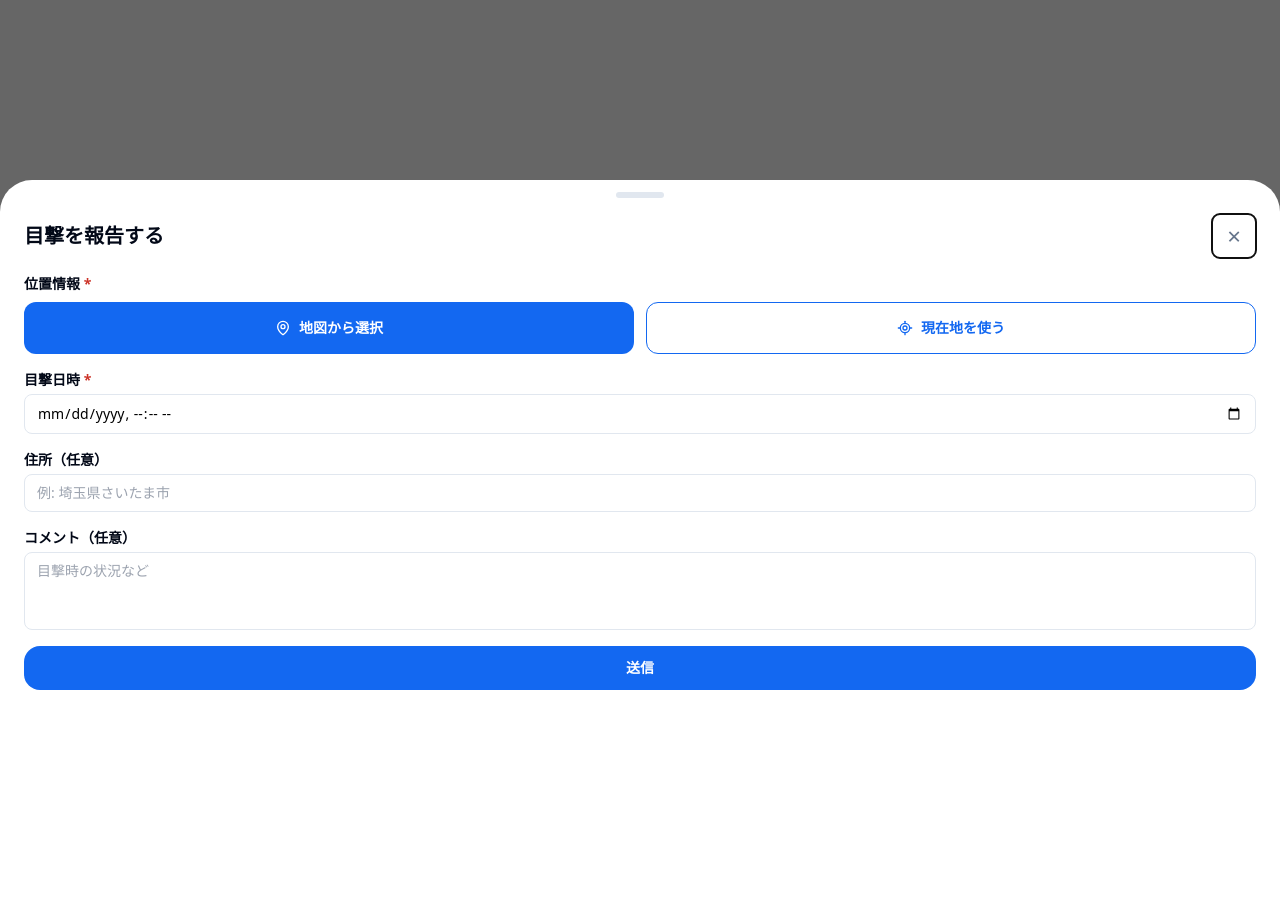
SightingModal › 位置情報未指定で送信すると「位置情報を指定してください」エラーが表示されること
The image size is (1280, 900).
Type "2026-04-26T10:00" into the field labelled "目撃日時".
click(640, 414); type("2026-04-26T10:00")  # box [24, 394, 1256, 434]
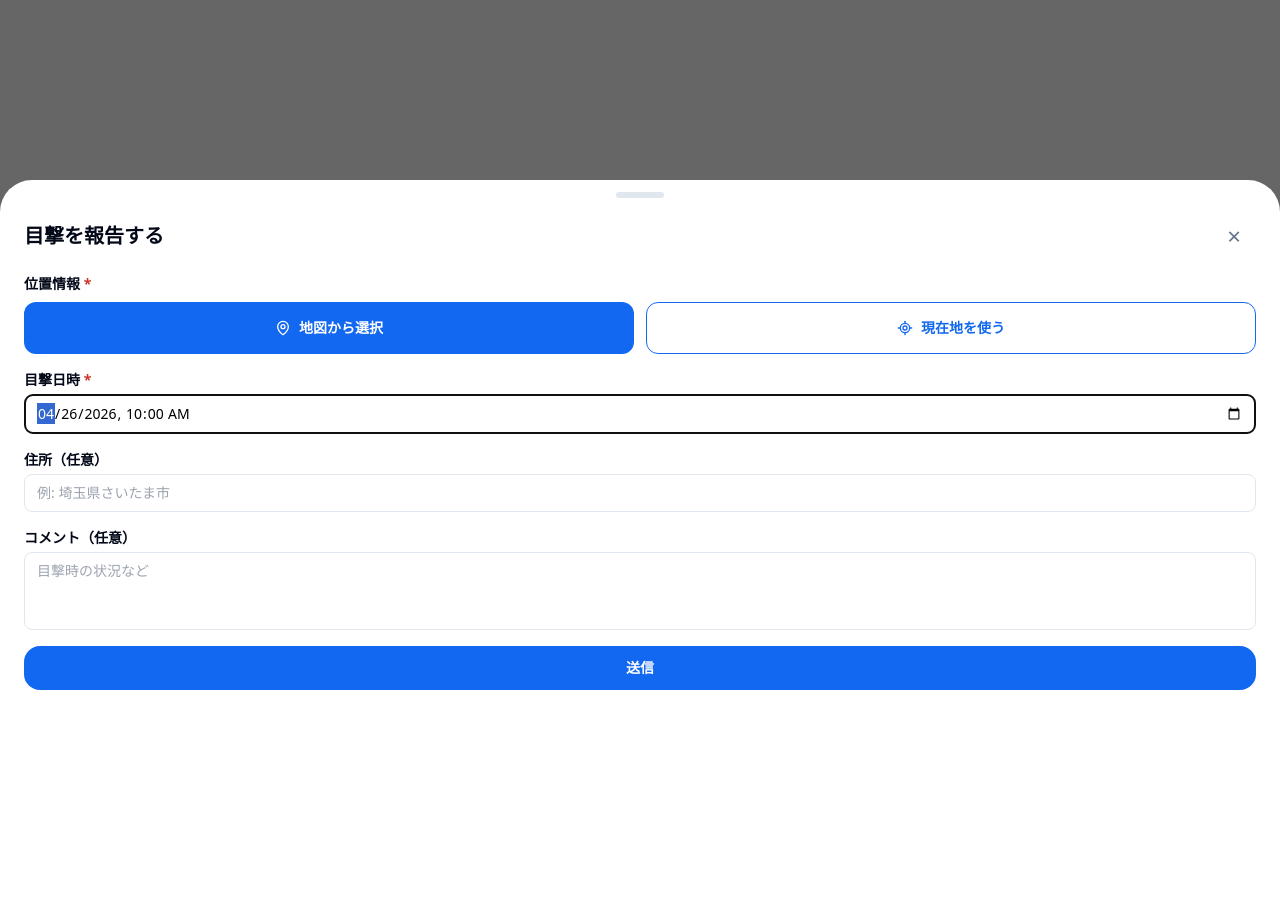
Click the button "送信".
click(640, 668)  # box [24, 646, 1256, 690]
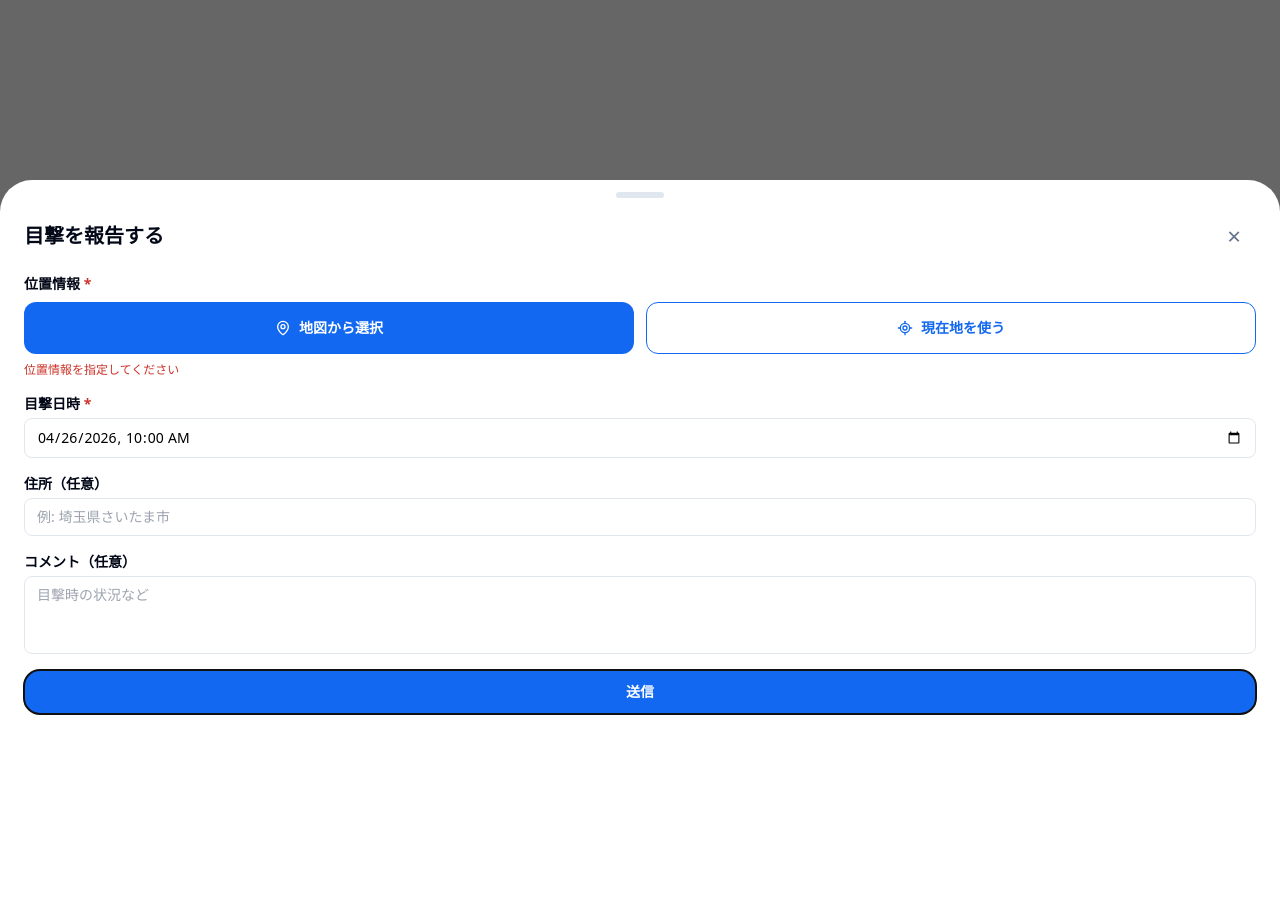
Now the text "位置情報を指定してください" is shown, box [24, 361, 179, 378]
